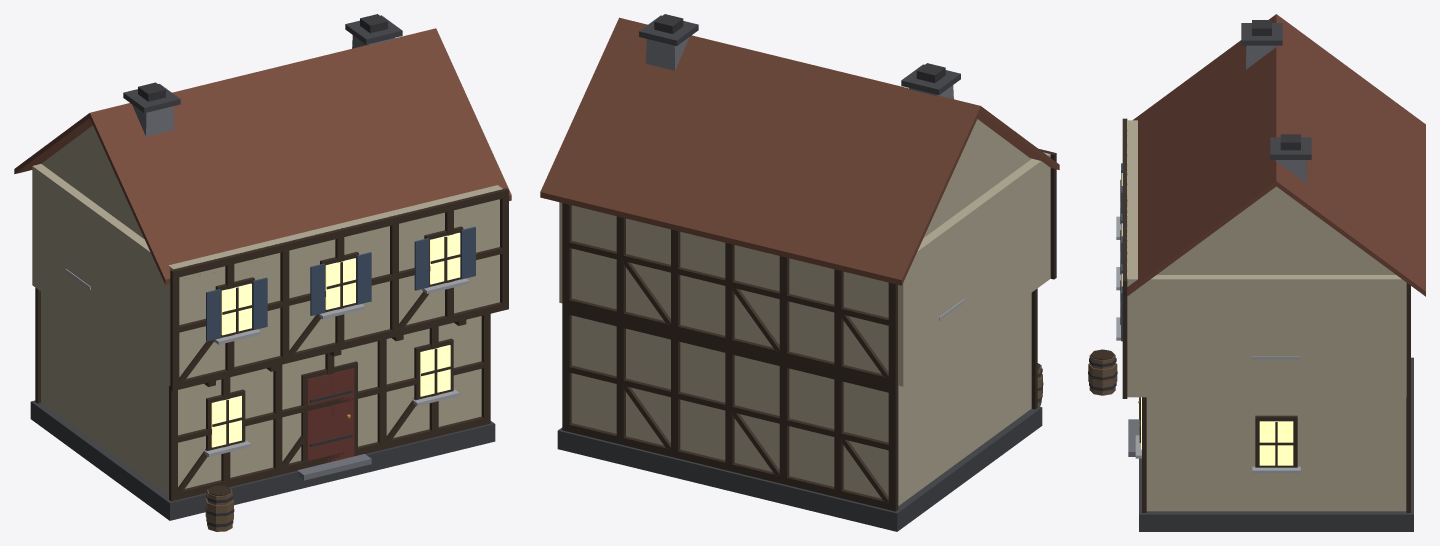
Rendered from bree_house_timber_1.glb.
3 renders of one model, left to right at view 1: azimuth 30°, elevation 25°; view 2: azimuth 150°, elevation 25°; view 3: azimuth 270°, elevation 25°, orthographic. The views are drawn at different scales.
Visible parts, largest first — view 1: bree_house_timber_1; view 2: bree_house_timber_1; view 3: bree_house_timber_1.
Boxes of the visible parts, box(x1,y1,x2,y2) form: bree_house_timber_1: box(14, 14, 511, 531); bree_house_timber_1: box(540, 14, 1059, 531); bree_house_timber_1: box(1088, 14, 1425, 531).
Size of what is drawn, in the model's own units: 8.2 by 8.51 by 7.01.
